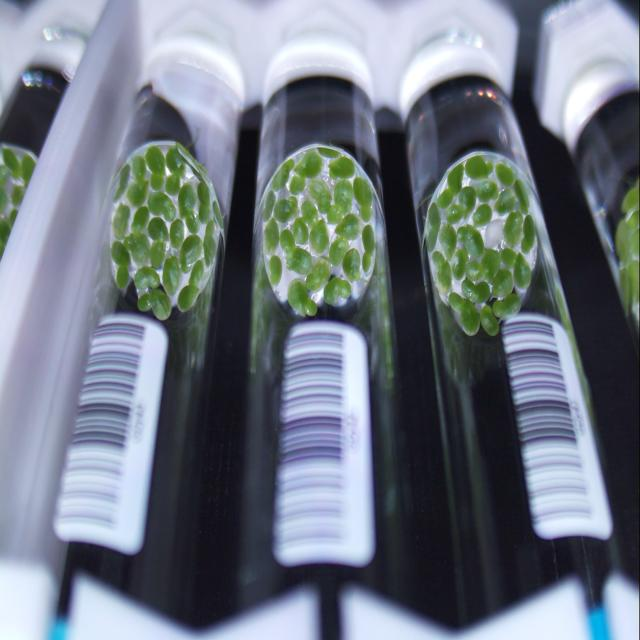Lemna-Gibba: (176, 143, 212, 187), (178, 260, 204, 312), (449, 292, 480, 335), (126, 155, 149, 206), (288, 279, 318, 315), (165, 145, 186, 195), (138, 289, 171, 320), (458, 223, 485, 259), (352, 175, 372, 222), (179, 233, 202, 273), (145, 145, 165, 190), (431, 250, 451, 295), (148, 190, 176, 222), (124, 232, 150, 266), (305, 257, 330, 291), (309, 178, 331, 213), (162, 255, 181, 295), (492, 294, 521, 320), (464, 155, 494, 180), (324, 277, 351, 304), (294, 152, 322, 178), (461, 279, 490, 304), (309, 218, 329, 254), (426, 202, 440, 252), (481, 248, 501, 282), (286, 247, 311, 274), (335, 213, 360, 240), (491, 269, 514, 298), (504, 210, 522, 247), (178, 183, 198, 216), (274, 195, 298, 222), (271, 160, 291, 192), (362, 223, 375, 272), (112, 203, 130, 238), (134, 265, 160, 289), (439, 223, 456, 259), (114, 163, 130, 201), (329, 155, 355, 178), (514, 254, 531, 289), (334, 180, 352, 213), (494, 188, 516, 215), (204, 218, 216, 267), (521, 215, 536, 254), (342, 248, 360, 280), (451, 248, 469, 280), (480, 305, 499, 335), (329, 237, 349, 265), (514, 178, 530, 213), (264, 218, 279, 254), (131, 205, 150, 233), (448, 163, 464, 195), (476, 180, 499, 202), (495, 162, 515, 187), (111, 240, 130, 266), (149, 240, 166, 269), (198, 182, 210, 223), (301, 200, 319, 227), (148, 217, 169, 240), (472, 203, 492, 227), (459, 185, 476, 213), (292, 217, 309, 243), (170, 218, 184, 247), (262, 190, 275, 221), (445, 203, 465, 223), (436, 187, 455, 208), (269, 255, 282, 285), (280, 228, 295, 254), (501, 247, 518, 269), (465, 260, 482, 281), (289, 173, 305, 195), (211, 200, 224, 227), (185, 210, 200, 233), (326, 203, 342, 223), (116, 265, 129, 289), (318, 147, 340, 158)
